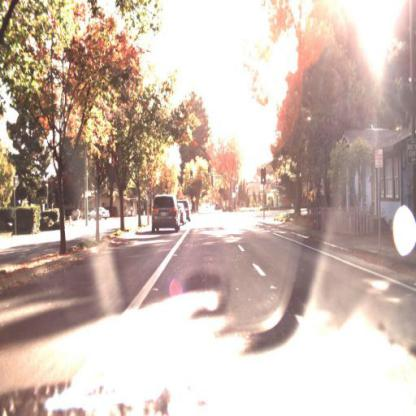car: (150, 190, 180, 232), (83, 204, 110, 223), (86, 206, 110, 222), (175, 200, 187, 230), (179, 199, 187, 227), (186, 198, 193, 223)
trafficLight: (260, 168, 266, 186)
trafficLight-Green: (206, 163, 212, 179), (205, 166, 212, 179), (260, 170, 266, 185), (189, 169, 195, 183)
trafficLight-GreenLeft: (189, 170, 196, 181)
